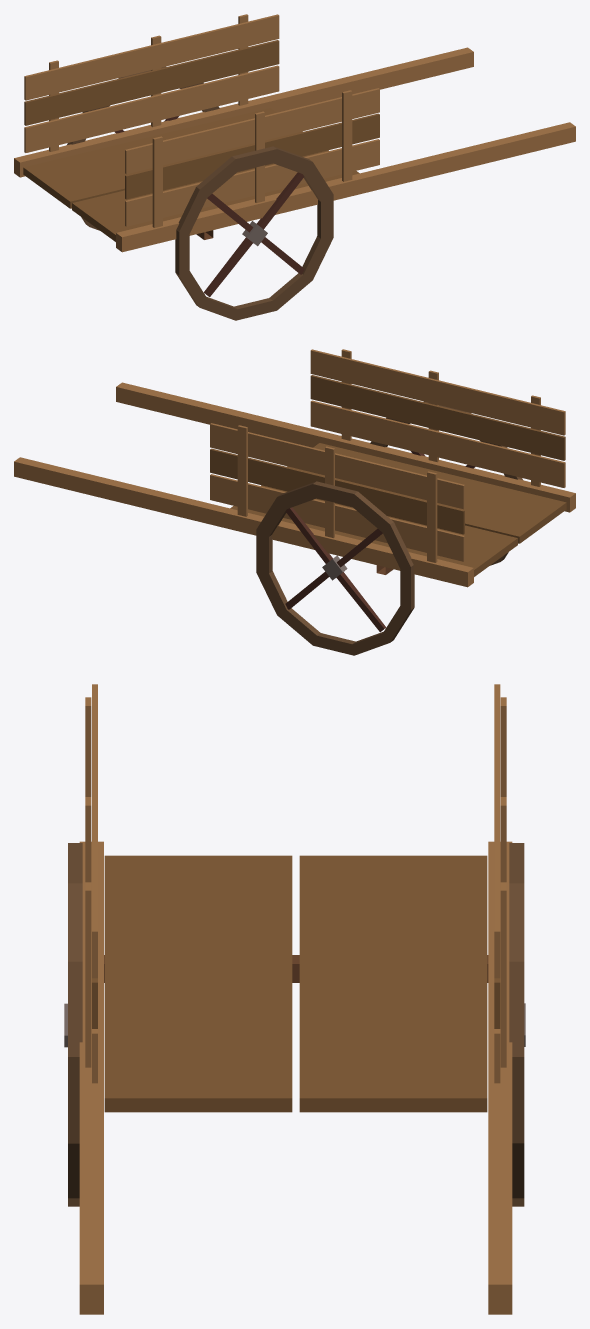
The model's file is cart.dae.
3 renders of one model, top to bottom at view 1: azimuth 30°, elevation 25°; view 2: azimuth 150°, elevation 25°; view 3: azimuth 270°, elevation 25°, orthographic. The views are drawn at different scales.
Parts seen in each view (by area): view 1: WesternCart; view 2: WesternCart; view 3: WesternCart.
Boxes of the visible parts, x1=… form: WesternCart: x1=14, y1=14, x2=575, y2=320; WesternCart: x1=14, y1=349, x2=575, y2=655; WesternCart: x1=64, y1=684, x2=525, y2=1314.
Size of the model in its own units: 4.4 by 1.94 by 1.82.
